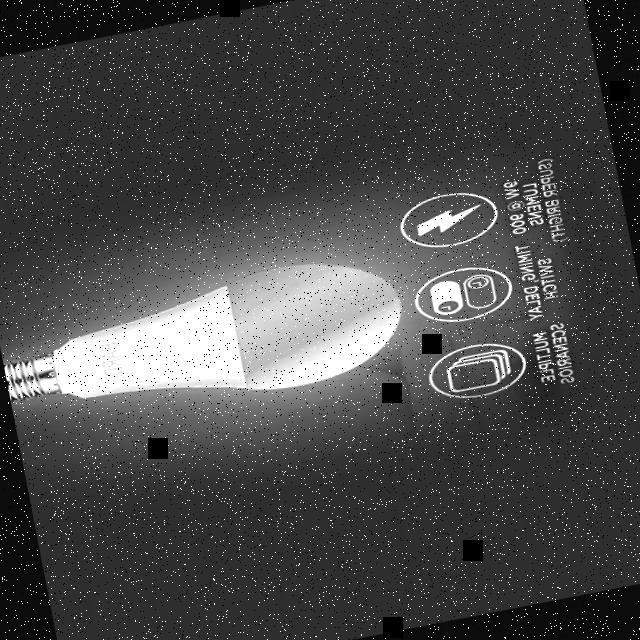light_bulb: (0, 233, 423, 445)
